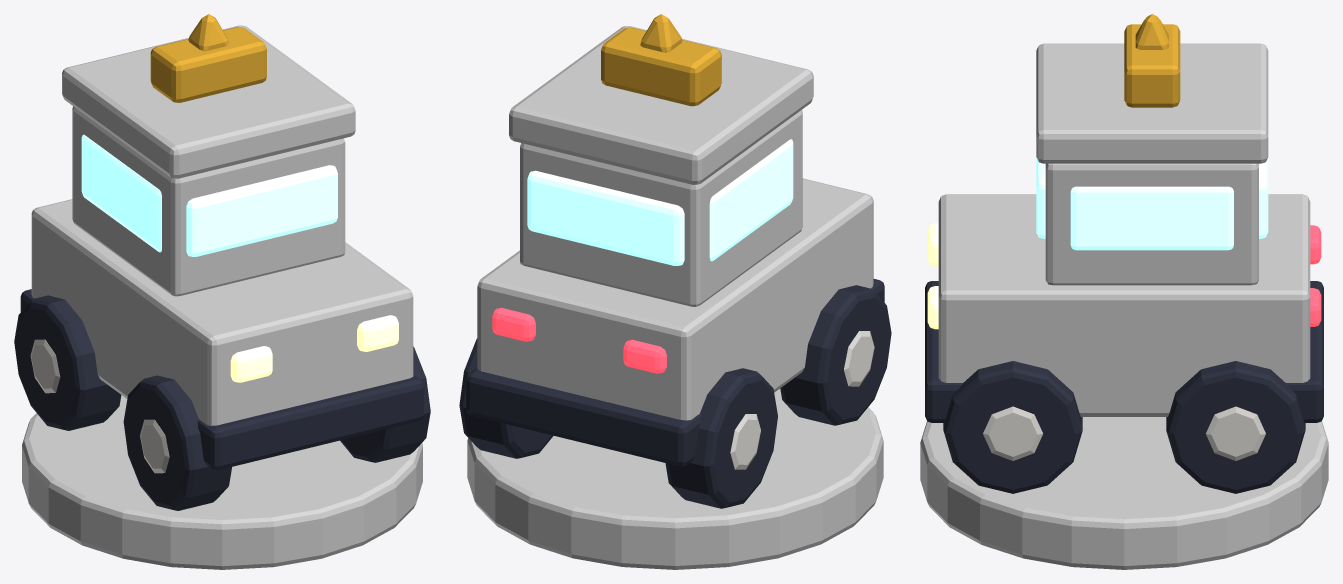
The model's file is car.glb.
3 renders of one model, left to right at view 1: azimuth 30°, elevation 25°; view 2: azimuth 150°, elevation 25°; view 3: azimuth 270°, elevation 25°, orthographic. The views are drawn at different scales.
Parts seen in each view (by area): view 1: PawnCar; view 2: PawnCar; view 3: PawnCar.
Part boxes in pixels (box(x1,y1,x2,y2)): PawnCar: box(14, 14, 430, 569); PawnCar: box(459, 14, 891, 569); PawnCar: box(920, 14, 1328, 569).
Bounding box in the file's own units: 0.44 × 0.5617 × 0.44.
